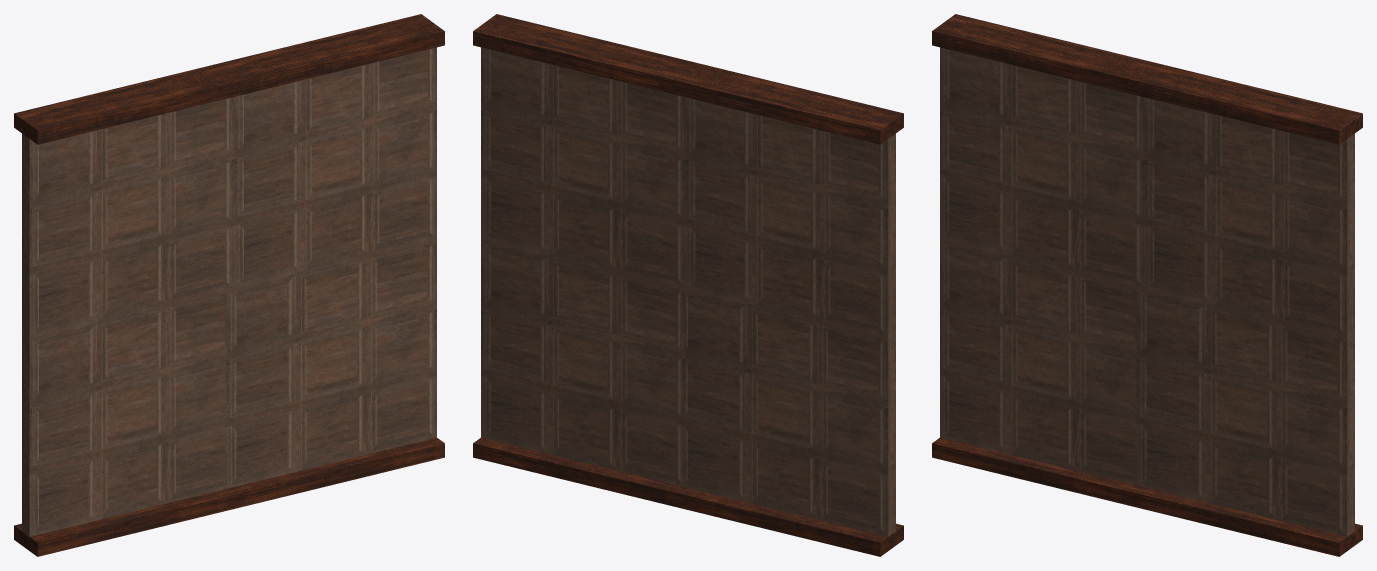
Rendered from wall1.fbx.
3 views of the same model, side by side, from view 1: azimuth 30°, elevation 25°; view 2: azimuth 150°, elevation 25°; view 3: azimuth 330°, elevation 25° (orthographic).
Visible parts, largest first — view 1: polySurface69; view 2: polySurface69; view 3: polySurface69.
Part boxes in pixels (box(x1,y1,x2,y2)): polySurface69: box(14, 14, 444, 556); polySurface69: box(473, 14, 903, 556); polySurface69: box(932, 14, 1362, 556).
Bounding box in the file's own units: 300 × 300 × 30.
